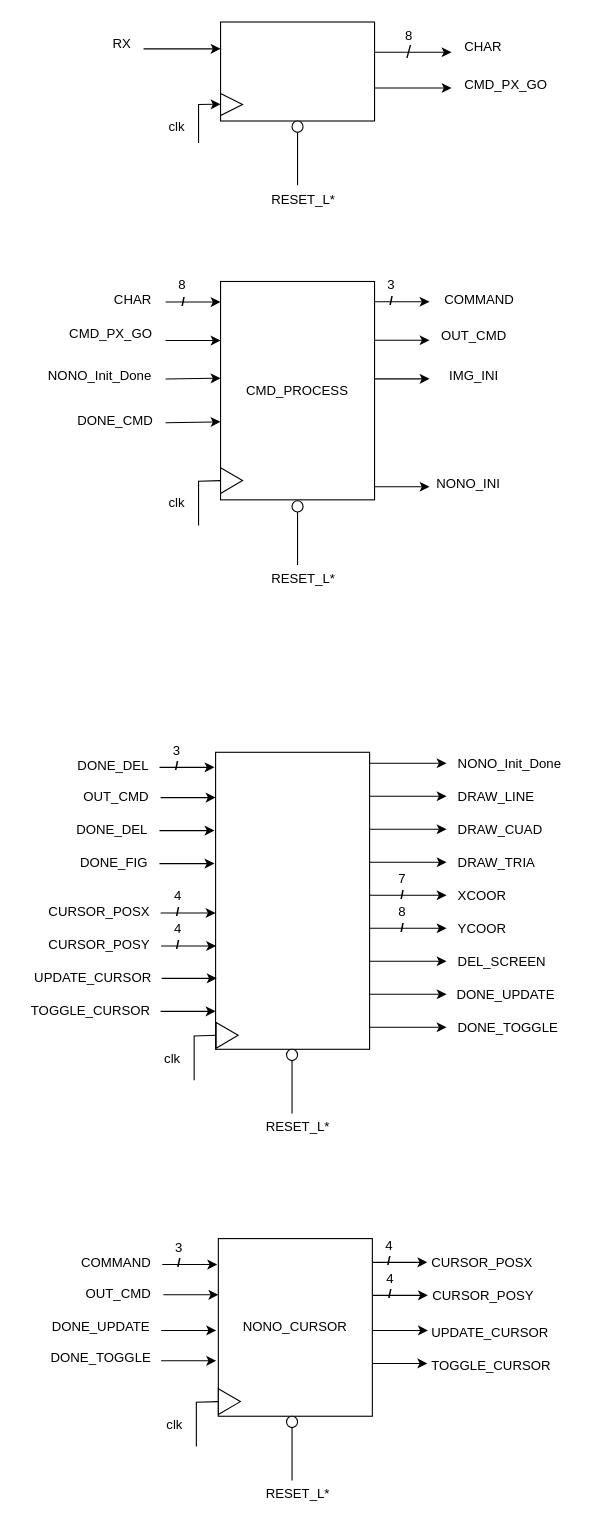
Image size: 606x1530. Some labels were removed from this diagram. The shapes that lost their labels are listed below. From the top down, each one's box as (x1, y1, x2, y2) in pixels, then its label:
(219, 21, 375, 121): LCD_UART
(215, 751, 370, 1049): NONO_GRAPHICS
